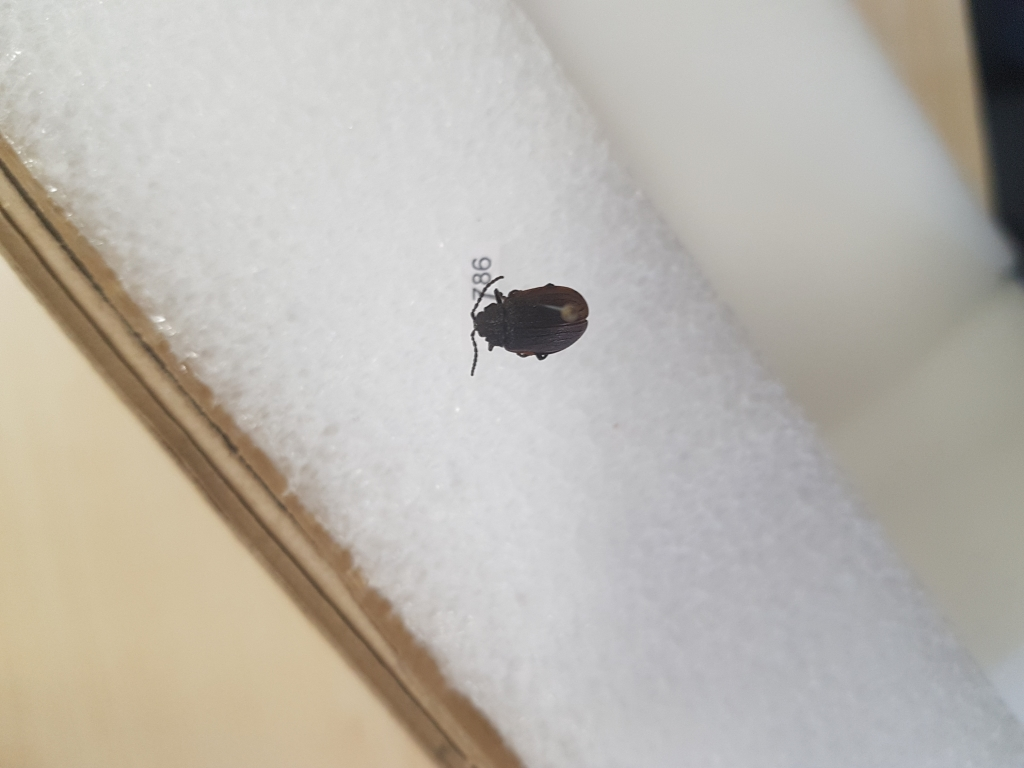Galeruca_tanaceti: (467, 272, 592, 379)
